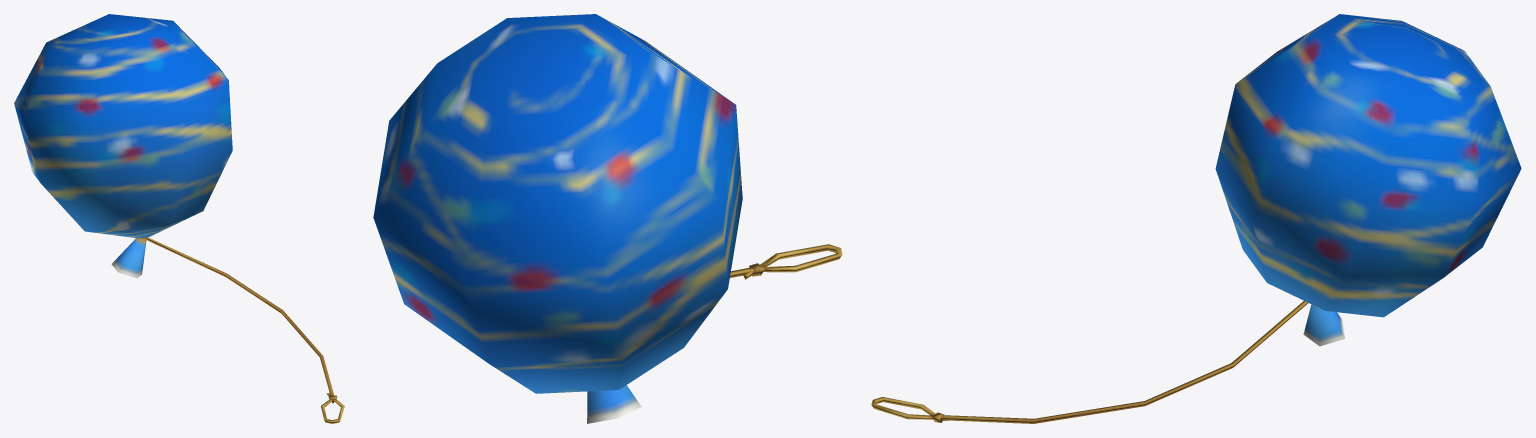
File: jsf_WaterBalloon_02_e.fbx
3 renders of one model, left to right at view 1: azimuth 30°, elevation 25°; view 2: azimuth 150°, elevation 25°; view 3: azimuth 270°, elevation 25°, orthographic. The views are drawn at different scales.
Parts seen in each view (by area): view 1: jsf_WaterBalloon_02_e; view 2: jsf_WaterBalloon_02_e; view 3: jsf_WaterBalloon_02_e.
Boxes of the visible parts, box(x1,y1,x2,y2) form: jsf_WaterBalloon_02_e: box(14, 14, 344, 423); jsf_WaterBalloon_02_e: box(373, 14, 842, 423); jsf_WaterBalloon_02_e: box(871, 14, 1521, 423).
Bounding box in the file's own units: 10.92 × 14.38 × 23.6.
